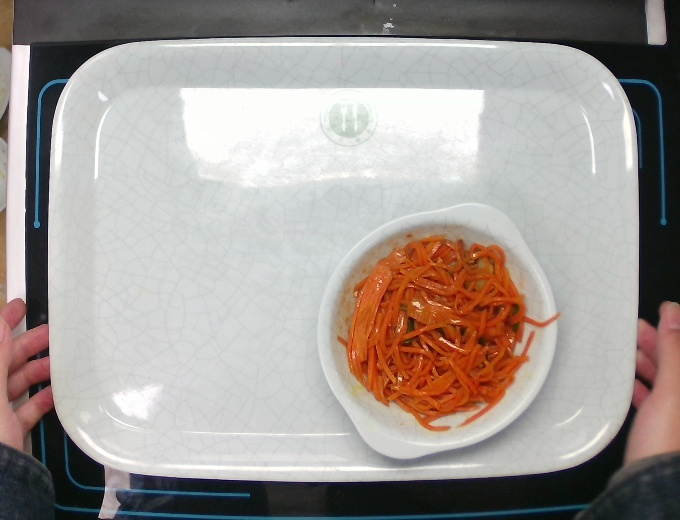JYsf-Shuang_Er_Wan: (317, 197, 563, 464)
